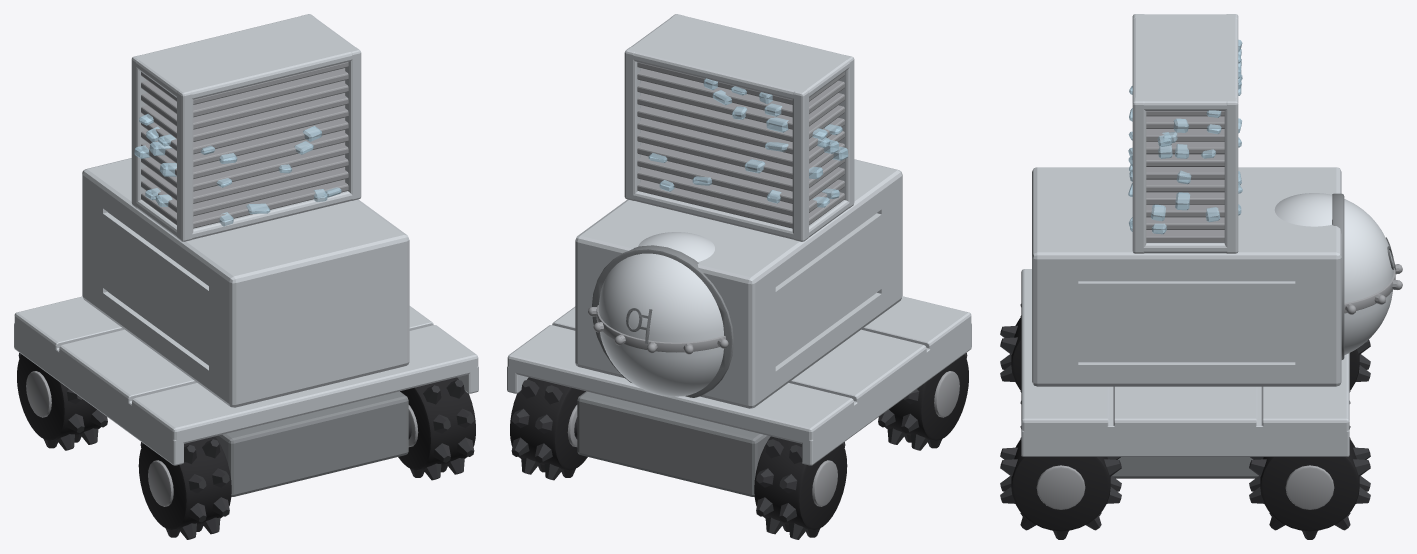
File: yeo.glb
3 views of the same model, side by side, from view 1: azimuth 30°, elevation 25°; view 2: azimuth 150°, elevation 25°; view 3: azimuth 270°, elevation 25° (orthographic). The views are drawn at different scales.
Visible parts, largest first — view 1: YEO_Hull, YEO_Radiator, YEO_Fender, YEO_Frame, YEO_Wheel_P1, YEO_Wheel_L1, YEO_Wheel_P0, YEO_Frost; view 2: YEO_Radiator, YEO_Hull, YEO_Fender, CORE_yeo_Shell, YEO_Frame, YEO_Wheel_P0, YEO_Wheel_L0, YEO_Wheel_P1, YEO_Frost; view 3: YEO_Hull, YEO_Radiator, YEO_Fender, YEO_Wheel_L0, YEO_Wheel_L1, CORE_yeo_Shell, YEO_Frame, YEO_Frost, YEO_Wheel_P1, YEO_Wheel_P0.
Boxes of the visible parts, x1,y1,x2,y2 form: YEO_Hull: (82, 158, 409, 407); YEO_Radiator: (131, 14, 361, 241); YEO_Fender: (14, 296, 478, 465); YEO_Frame: (215, 391, 411, 496); YEO_Wheel_P1: (138, 436, 231, 539); YEO_Wheel_L1: (398, 377, 475, 480); YEO_Wheel_P0: (17, 353, 107, 450); YEO_Frost: (134, 114, 341, 226); YEO_Radiator: (624, 14, 854, 241); YEO_Hull: (575, 159, 902, 408); YEO_Fender: (507, 296, 971, 465); CORE_yeo_Shell: (588, 232, 728, 396); YEO_Frame: (574, 391, 770, 496); YEO_Wheel_P0: (754, 436, 847, 539); YEO_Wheel_L0: (510, 377, 587, 480); YEO_Wheel_P1: (878, 353, 968, 450); YEO_Frost: (648, 78, 848, 207); YEO_Hull: (1032, 167, 1344, 386); YEO_Radiator: (1132, 14, 1238, 253); YEO_Fender: (1021, 269, 1349, 456); YEO_Wheel_L0: (1249, 426, 1370, 539); YEO_Wheel_L1: (1000, 426, 1121, 539); CORE_yeo_Shell: (1274, 193, 1402, 355); YEO_Frame: (1112, 457, 1258, 478); YEO_Frost: (1128, 39, 1242, 234); YEO_Wheel_P1: (1000, 304, 1021, 403); YEO_Wheel_P0: (1349, 339, 1370, 403).
Size of the model in its own units: 0.68 by 0.862 by 0.7604.
